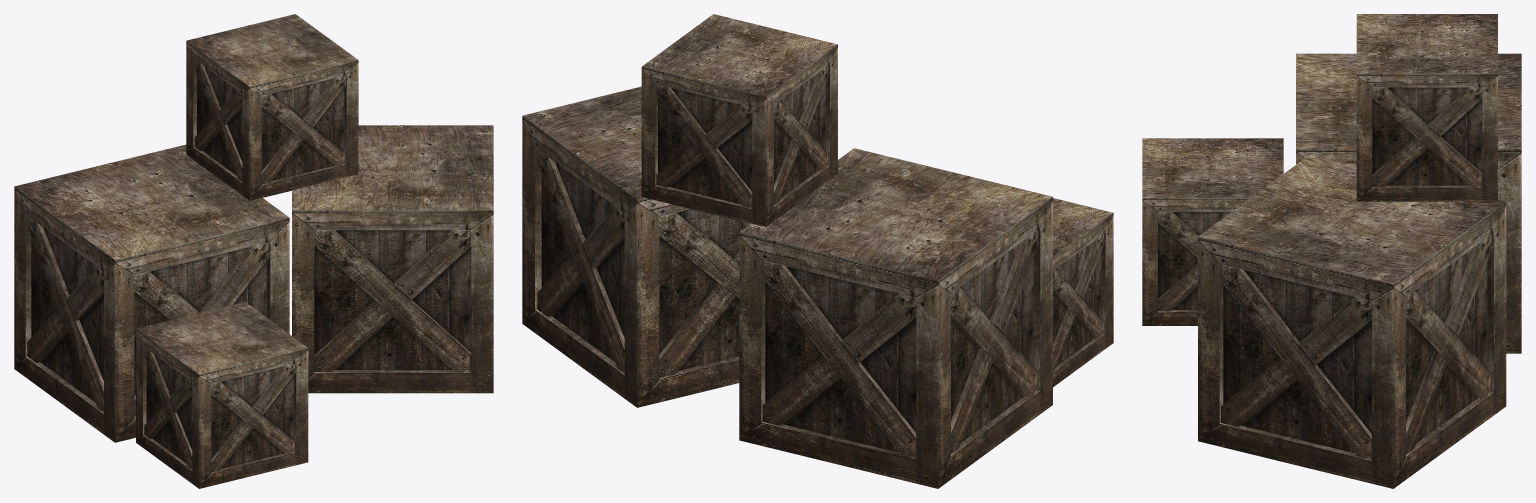
Rendered from prodcratesa.glb.
3 renders of one model, left to right at view 1: azimuth 30°, elevation 25°; view 2: azimuth 150°, elevation 25°; view 3: azimuth 270°, elevation 25°, orthographic. The views are drawn at different scales.
Visible parts, largest first — view 1: 0_prodcrates; view 2: 0_prodcrates; view 3: 0_prodcrates.
Boxes of the visible parts, x1,y1,x2,y2 form: 0_prodcrates: (14, 14, 493, 488); 0_prodcrates: (522, 14, 1113, 488); 0_prodcrates: (1142, 14, 1521, 488).
Size of the model in its own units: 3.93 by 2.64 by 2.73.
Materials: 1 (1 with a texture image).
